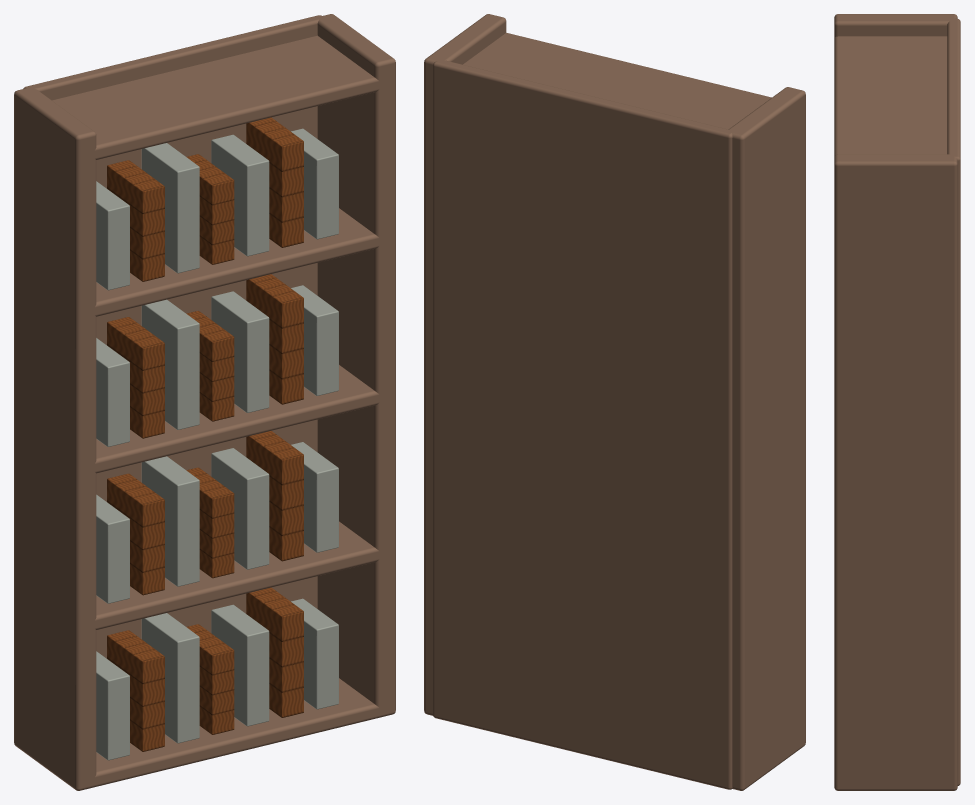
The model's file is paranormal-investigation-house-bookshelf-f0589701__26735.glb.
3 renders of one model, left to right at view 1: azimuth 30°, elevation 25°; view 2: azimuth 150°, elevation 25°; view 3: azimuth 270°, elevation 25°, orthographic. The views are drawn at different scales.
Visible parts, largest first — view 1: bookshelf; view 2: bookshelf; view 3: bookshelf.
Part boxes in pixels (left/top/right/bottom): bookshelf: left=14, top=14, right=395, bottom=790; bookshelf: left=424, top=14, right=805, bottom=790; bookshelf: left=834, top=14, right=960, bottom=790.
Bounding box in the file's own units: 0.9201 × 1.8 × 0.3274.
Materials: 3 (1 with a texture image).
